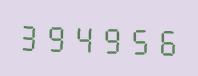five: (126, 20, 152, 57)
four: (72, 19, 98, 55)
nine: (44, 18, 70, 55), (99, 20, 125, 56)
six: (153, 21, 179, 58)
three: (17, 17, 43, 54)
